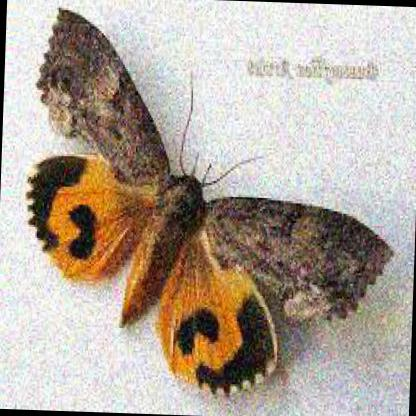fruit sucking moth: (24, 7, 394, 399)
